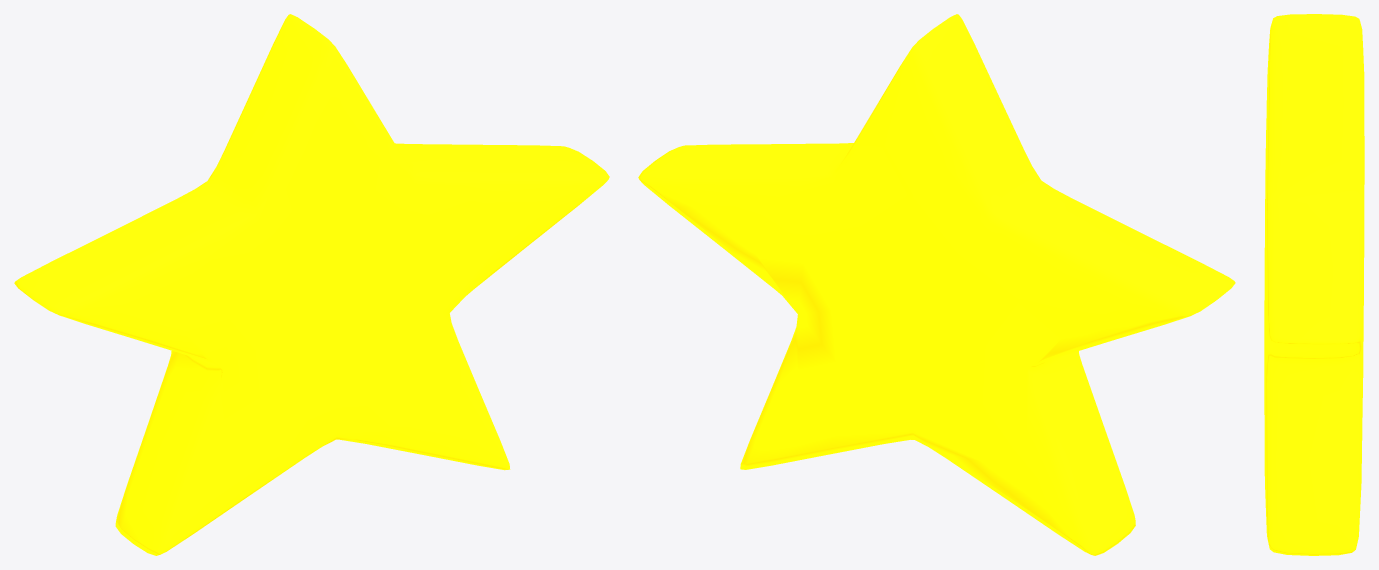
Rendered from ship_star.glb.
3 views of the same model, side by side, from view 1: azimuth 30°, elevation 25°; view 2: azimuth 150°, elevation 25°; view 3: azimuth 270°, elevation 25° (orthographic). The views are drawn at different scales.
Visible parts, largest first — view 1: star; view 2: star; view 3: star.
Boxes of the visible parts, <box> form: star: <box>14,14,609,555</box>; star: <box>638,14,1235,555</box>; star: <box>1264,14,1364,555</box>.
Size of the model in its own units: 3.93 by 3.16 by 0.627.
1 material, 1 textured.
